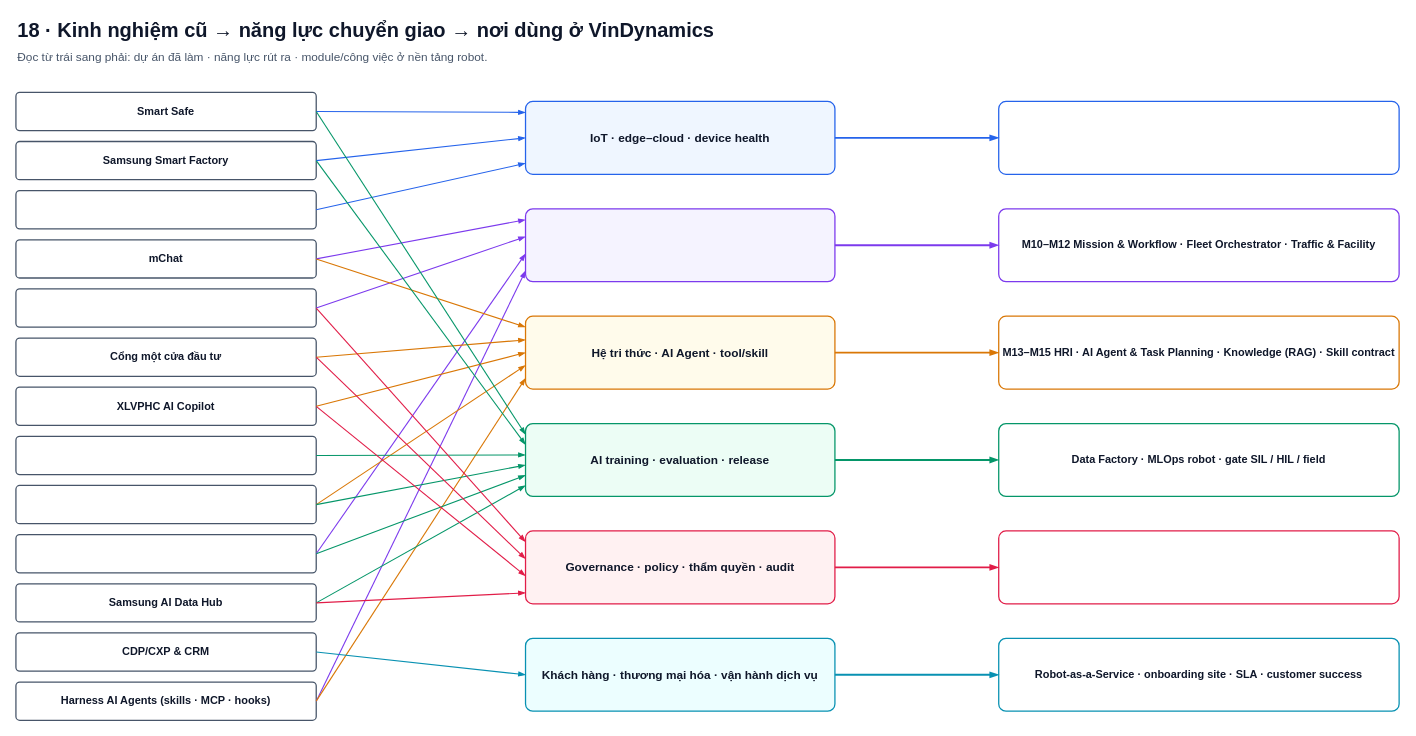
Image size: 1416x736. Some labels were removed from this diagram. The shapes that lost their labels are listed below. From the top down, each one's centre as x and y in pixels, then its label:
pixel 1198 137: M01–M03 Robot & Capability Registry · Device & Health · OTA
pixel 165 209: V-Tracking · SafeOne
pixel 679 245: Điều phối công việc & workflow động
pixel 165 307: Điều phối TTHC (Bộ Công an)
pixel 165 455: HRAI One
pixel 165 504: Tori AI
pixel 165 553: RPA & OCR + VLM
pixel 1198 567: M09 Safety & Policy · Industry Solution Packs · audit trail
